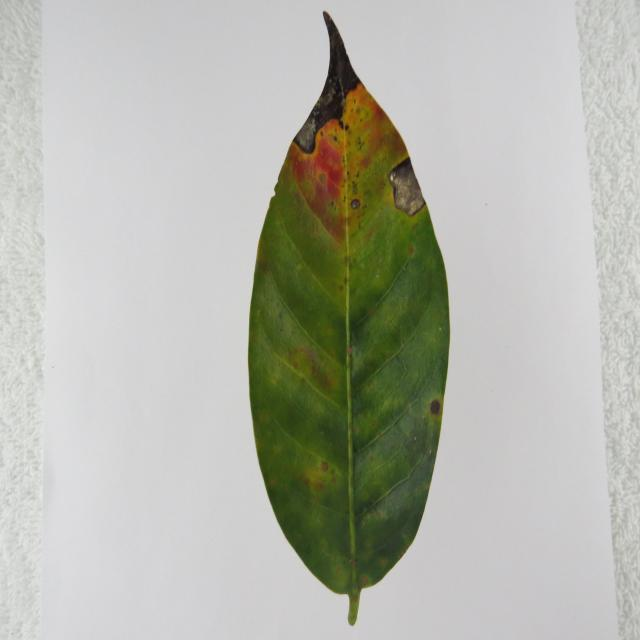DeficienciaNutricional-Fosforo: (249, 12, 450, 625)
